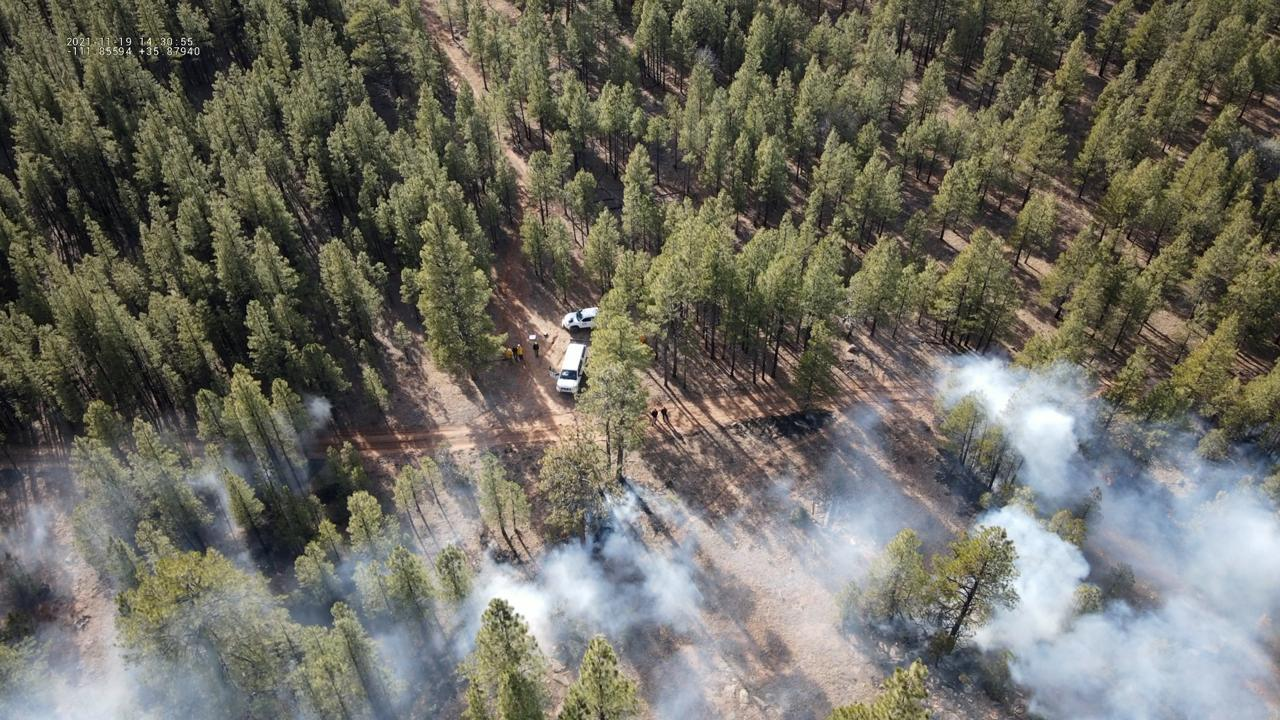fire: (1106, 476, 1113, 486)
smoke: (0, 342, 1280, 720)
